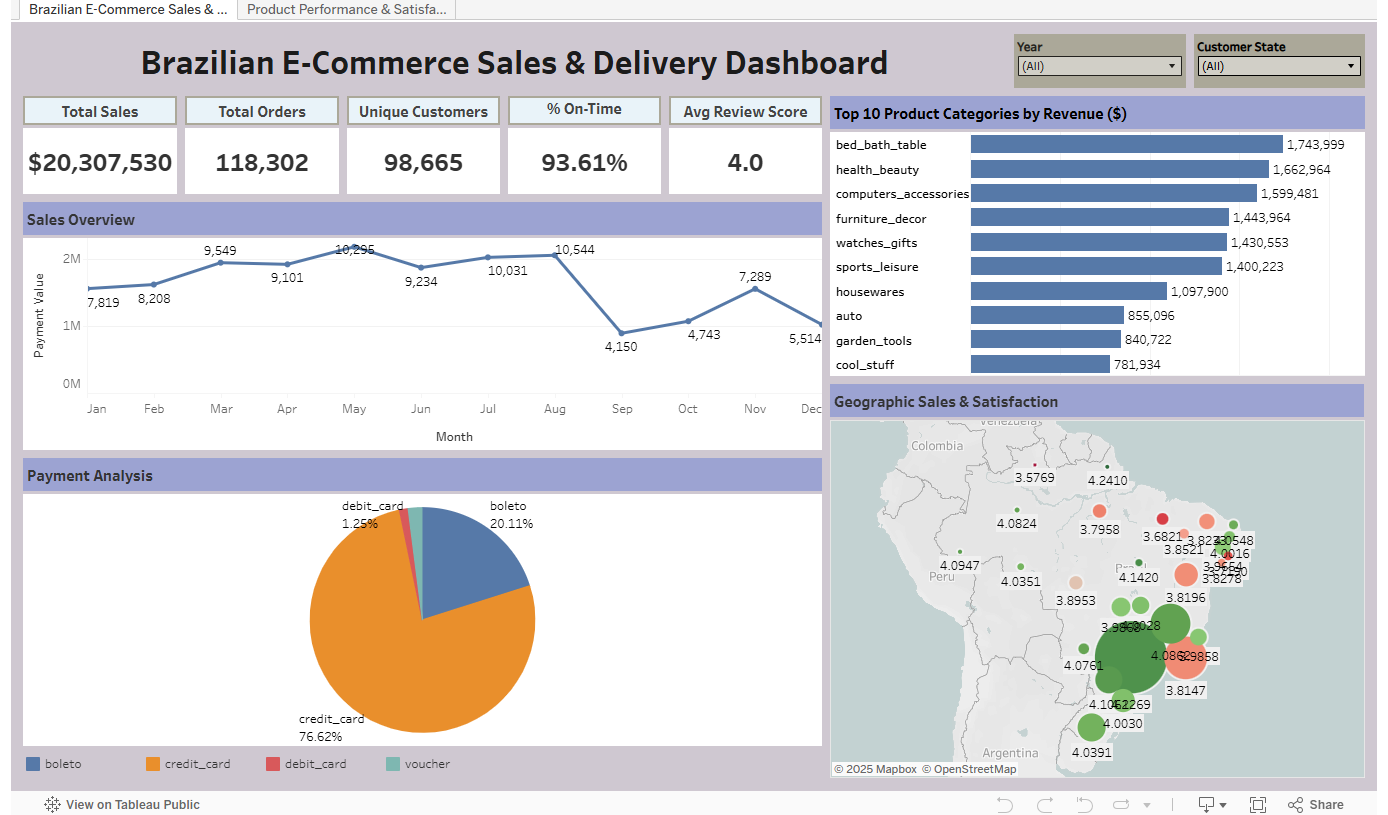

The dashboard page shown, as its layout file describes it:
{"tool":"tableau","page":{"name":"Brazilian E-Commerce Sales & Delivery Dashboard","canvas":[1000,1000],"units":"permille","ordinal":0},"visuals":[{"type":"text","box":[5.9,10.4,725.5,80.7]},{"type":"filter","title":"Sales Overview","param":"[federated.0u8zcs504tbxkr1bsr9un1r70h27].[none:Calculation_1286622118837325824:o","box":[731.3,10.4,131.8,80.7]},{"type":"filter","title":"Geographic Sales & Satisfaction","param":"[federated.0u8zcs504tbxkr1bsr9un1r70h27].[none:customer_state:nk]","box":[863.1,10.4,131,80.7]},{"type":"worksheet","title":"Top Product Categories","mark":"Automatic","rows":["product_category_name_english"],"cols":["payment_value"],"box":[596.6,91.1,397.5,375]},{"type":"worksheet","title":"Total Sales","mark":"Text","box":[5.9,91.2,118.6,138]},{"type":"worksheet","title":"Total Orders","mark":"Automatic","box":[124.5,91.2,118.6,138]},{"type":"worksheet","title":"Unique Customers","mark":"Automatic","box":[243.1,91.2,117.9,138]},{"type":"worksheet","title":"% On-Time Deliveries","mark":"Automatic","box":[360.9,91.2,117.9,138]},{"type":"worksheet","title":"Avg Review Score","mark":"Automatic","box":[478.8,91.2,117.9,138]},{"type":"worksheet","title":"Sales Overview","mark":"Automatic","rows":["payment_value"],"cols":["order_purchase_timestamp"],"box":[5.9,228.8,590.8,333.1]},{"type":"worksheet","title":"Geographic Sales & Satisfaction","mark":"Circle","box":[596.6,466.1,397.5,523.4]},{"type":"worksheet","title":"Payment Analysis","mark":"Pie","box":[5.9,562,590.8,385.9]},{"type":"legend","title":"Payment Analysis","param":"[federated.0u8zcs504tbxkr1bsr9un1r70h27].[none:payment_type:nk]","box":[5.9,947.9,590.8,41.7]}]}

Visuals, with their boxes on the dashboard's canvas, which has no fixed pixel size, in thousandths of its width and height (x1, y1, x2, y2). These are canvas units, not pixel positions in the 1388x815 screenshot, which may show the page scaled, cropped or inside an application window:
text: x1=6, y1=10, x2=731, y2=91
"Sales Overview" filter: x1=731, y1=10, x2=863, y2=91
"Geographic Sales & Satisfaction" filter: x1=863, y1=10, x2=994, y2=91
"Top Product Categories" worksheet: x1=597, y1=91, x2=994, y2=466
"Total Sales" worksheet (Text marks): x1=6, y1=91, x2=124, y2=229
"Total Orders" worksheet: x1=124, y1=91, x2=243, y2=229
"Unique Customers" worksheet: x1=243, y1=91, x2=361, y2=229
"% On-Time Deliveries" worksheet: x1=361, y1=91, x2=479, y2=229
"Avg Review Score" worksheet: x1=479, y1=91, x2=597, y2=229
"Sales Overview" worksheet: x1=6, y1=229, x2=597, y2=562
"Geographic Sales & Satisfaction" worksheet (Circle marks): x1=597, y1=466, x2=994, y2=990
"Payment Analysis" worksheet (Pie marks): x1=6, y1=562, x2=597, y2=948
"Payment Analysis" legend: x1=6, y1=948, x2=597, y2=990
